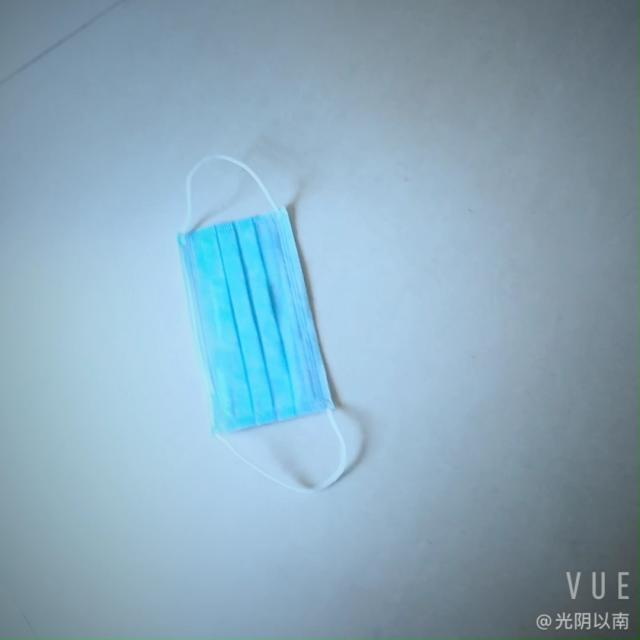face mask: (196, 201, 353, 431)
